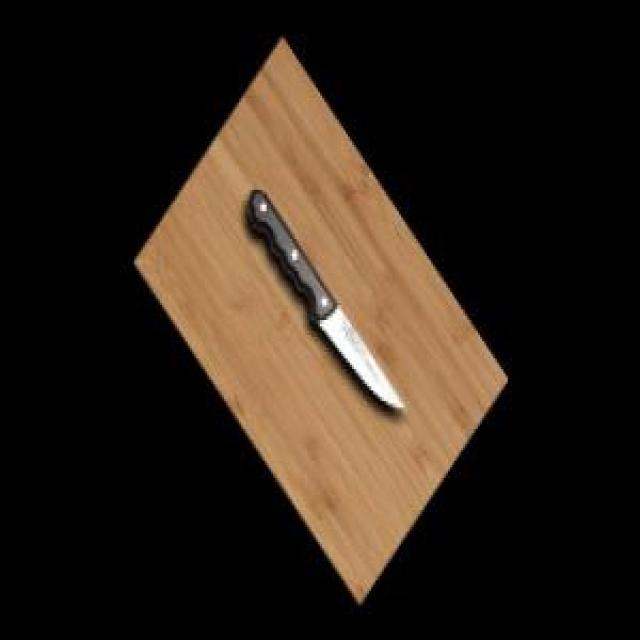knife: (244, 188, 406, 418)
